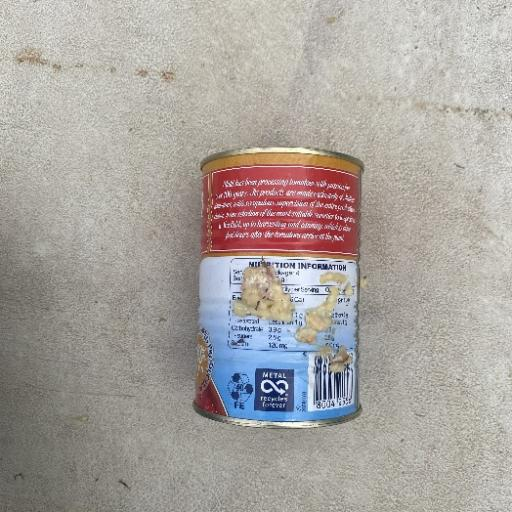Metal: (190, 145, 366, 429)
